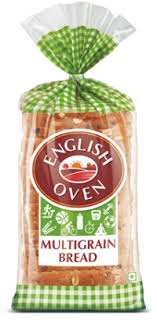bread: (7, 5, 154, 316)
